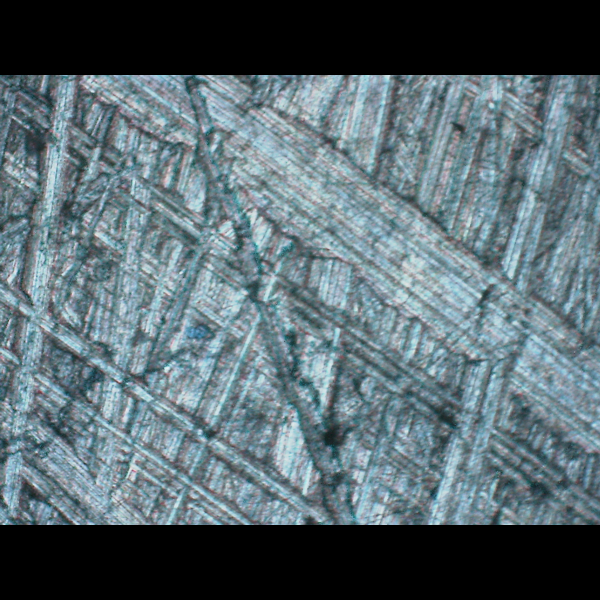d: (152, 110, 563, 496)
